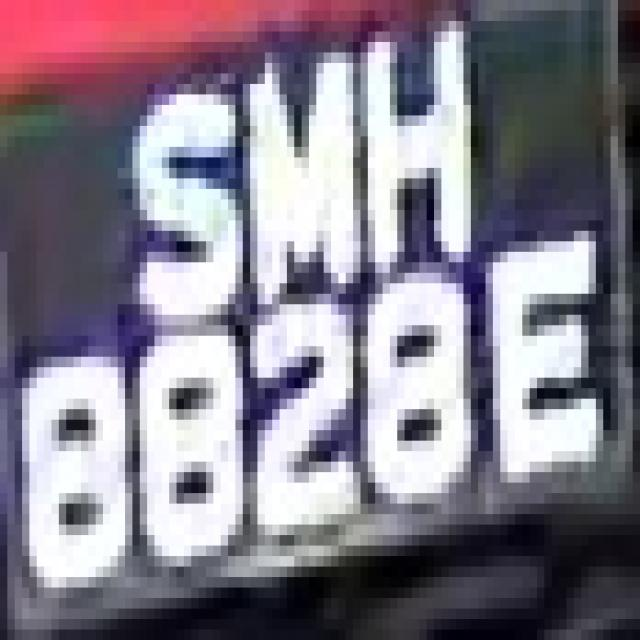2: (235, 294, 368, 556)
8: (353, 262, 508, 525), (133, 304, 250, 588), (22, 336, 140, 608)
E: (478, 220, 633, 504)
H: (346, 32, 478, 304)
M: (228, 42, 346, 315)
S: (110, 31, 236, 346)
